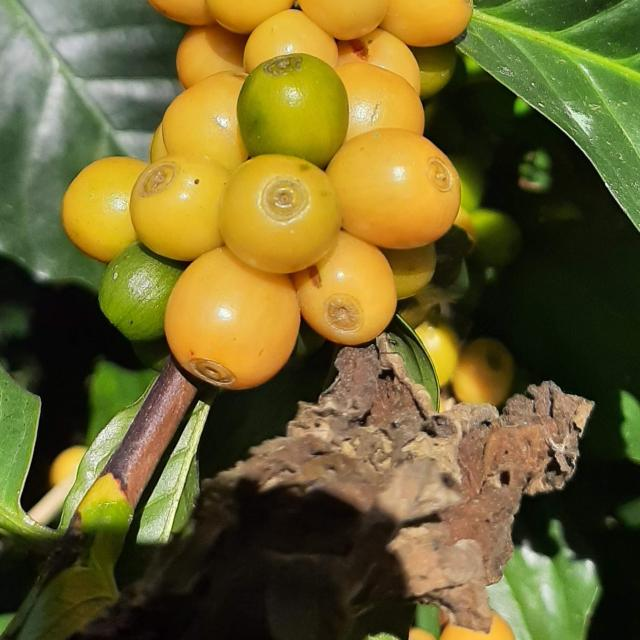green: (237, 53, 349, 167), (98, 242, 184, 342)
red: (164, 247, 300, 390), (327, 128, 461, 249), (219, 154, 342, 273), (292, 231, 397, 345), (129, 153, 230, 261), (62, 156, 147, 262), (161, 70, 248, 171), (336, 62, 425, 141), (243, 8, 338, 72), (338, 27, 422, 93), (176, 23, 247, 88), (380, 0, 473, 46), (298, 0, 390, 39), (205, 0, 294, 33), (147, 0, 215, 25)
